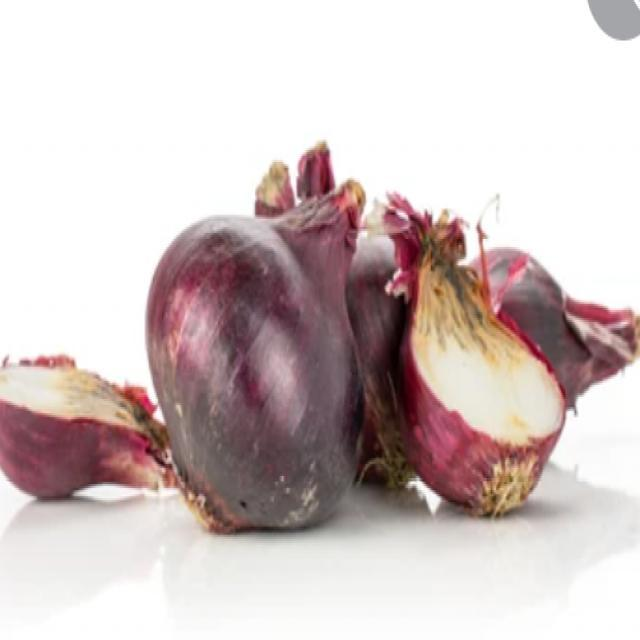rotten: (246, 377, 326, 512), (418, 220, 474, 334), (99, 389, 162, 488)
